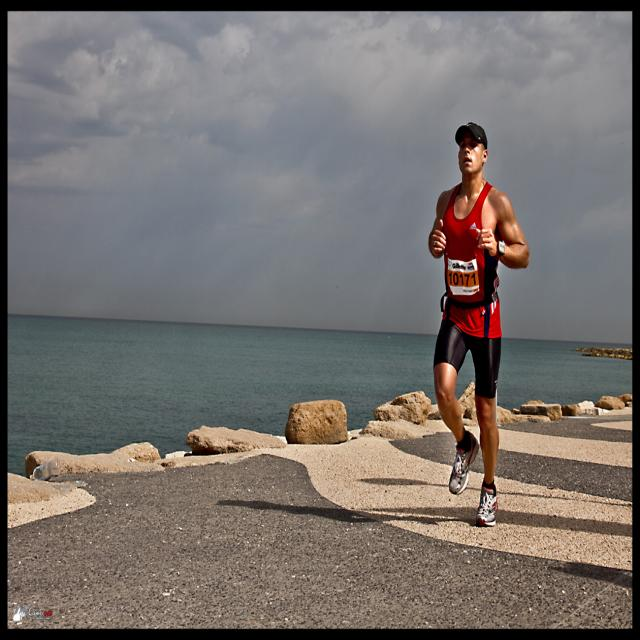Bib: (447, 272, 477, 290)
